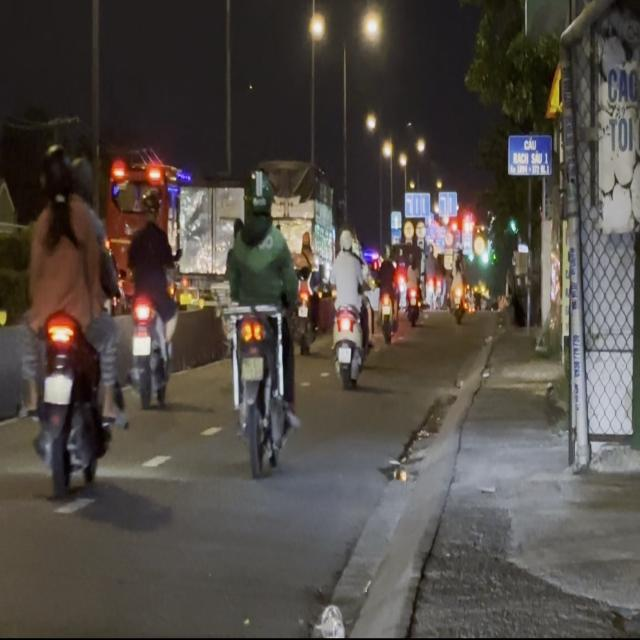helmet: (40, 142, 72, 202), (247, 171, 273, 221), (69, 153, 93, 201), (138, 182, 161, 223)
licenseplate: (20, 139, 126, 499), (219, 170, 302, 474), (124, 175, 178, 409)
nohelmet: (43, 374, 72, 404), (241, 357, 263, 379), (132, 335, 150, 355)
